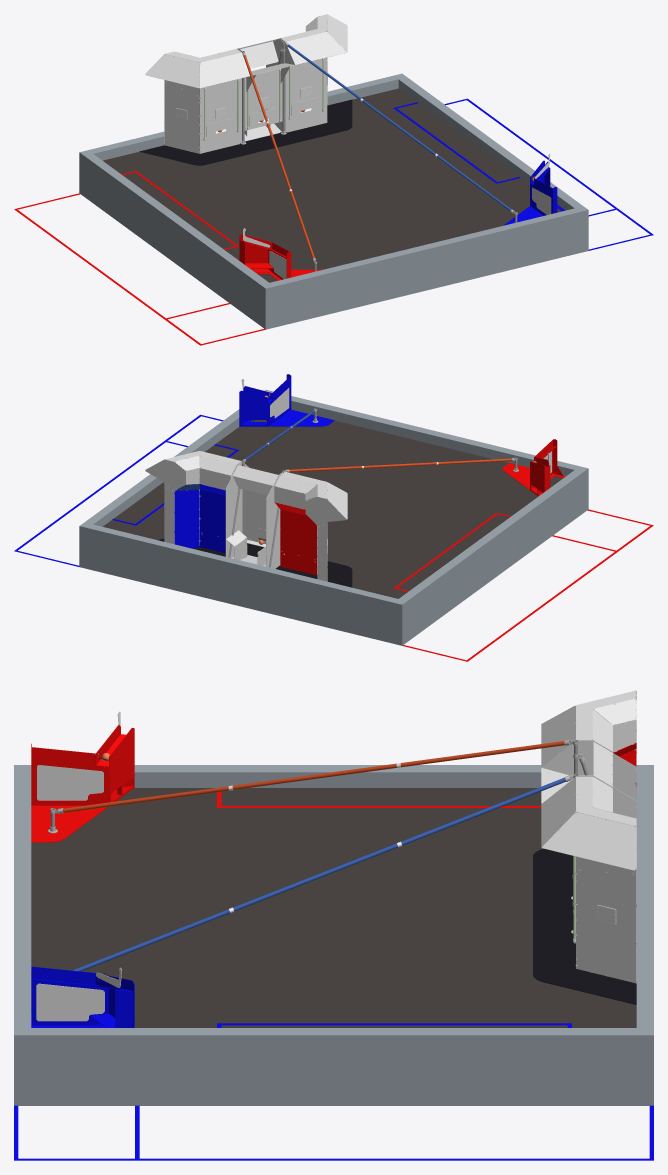
File: FGC_2026.glb
3 views of the same model, one above another, from view 1: azimuth 30°, elevation 25°; view 2: azimuth 150°, elevation 25°; view 3: azimuth 270°, elevation 25° (orthographic). The views are drawn at different scales.
Parts seen in each view (by area): view 1: RISER-1, GUARD_RAIL-1, FG_F_03_05-56-1, FG_F_03_06-59-1, FG_F_03_06-1, FG_F_02_19-1, FG_F_06_03-1, FG_F_03_03-62-1, FG_F_06_02-1, FG_F_03_07-70-1, FG_F_03_03-1, RED_ALLIANCE_TAPE-1 (+6 smaller); view 2: GUARD_RAIL-1, RISER-1, FG_F_03_17-71-1, FG_F_03_17-1, RED_ALLIANCE_TAPE-1, FG_F_02_19-1, FG_F_05_01-11-1, FG_F_03_16-1, BLUE_ALLIANCE_TAPE-1, FG_F_03_24-54-1, FG_F_03_24-1, FG_F_05_12-12-1 (+16 smaller); view 3: RISER-1, GUARD_RAIL-1, FG_F_03_05-1, FG_F_03_07-1, FG_F_06_02-1, BLUE_ALLIANCE_TAPE-1, FG26_F_01_TRUSS_ASSEMBLY _1_-1/FG26_F_01_BLUE_HST-1, FG_F_06_03-1, FG26_F_01_TRUSS_ASSEMBLY _1_-1/FG26_F_01_RED_HST-1, FG_F_05_11-9-1, FG_F_05_07-1, FG_F_05_11-1 (+15 smaller).
Part boxes in pixels (x1,y1,x2,y2): RISER-1: (103, 88, 561, 282); GUARD_RAIL-1: (79, 73, 588, 329); FG_F_03_05-56-1: (164, 80, 199, 153); FG_F_03_06-59-1: (199, 78, 241, 153); FG_F_03_06-1: (285, 57, 327, 132); FG_F_02_19-1: (244, 69, 282, 130); FG_F_06_03-1: (169, 137, 274, 165); FG_F_03_03-62-1: (199, 52, 249, 88); FG_F_06_02-1: (262, 114, 352, 147); FG_F_03_07-70-1: (145, 54, 199, 88); FG_F_03_03-1: (286, 32, 346, 64); RED_ALLIANCE_TAPE-1: (14, 193, 265, 345); GUARD_RAIL-1: (79, 389, 588, 645); RISER-1: (103, 420, 562, 598); FG_F_03_17-71-1: (280, 509, 317, 575); FG_F_03_17-1: (199, 489, 225, 553); RED_ALLIANCE_TAPE-1: (402, 509, 653, 661); FG_F_02_19-1: (244, 490, 267, 544); FG_F_05_01-11-1: (239, 390, 268, 426); FG_F_03_16-1: (174, 513, 199, 548); BLUE_ALLIANCE_TAPE-1: (14, 414, 223, 566); FG_F_03_24-54-1: (305, 496, 346, 525); FG_F_03_24-1: (145, 459, 185, 490); FG_F_05_12-12-1: (241, 409, 334, 426); RISER-1: (31, 788, 636, 1027); GUARD_RAIL-1: (14, 765, 653, 1105); FG_F_03_05-1: (576, 856, 636, 983); FG_F_03_07-1: (542, 812, 636, 870); FG_F_06_02-1: (533, 915, 605, 992); BLUE_ALLIANCE_TAPE-1: (14, 1105, 653, 1160); FG26_F_01_TRUSS_ASSEMBLY _1_-1/FG26_F_01_BLUE_HST-1: (72, 777, 566, 971); FG_F_06_03-1: (533, 848, 573, 915); FG26_F_01_TRUSS_ASSEMBLY _1_-1/FG26_F_01_RED_HST-1: (62, 741, 564, 812); FG_F_05_11-9-1: (36, 983, 104, 1021); FG_F_05_07-1: (31, 747, 109, 805); FG_F_05_11-1: (37, 765, 103, 800).
Bounding box in the file's own units: 10.4 × 2.71 × 7.4.
